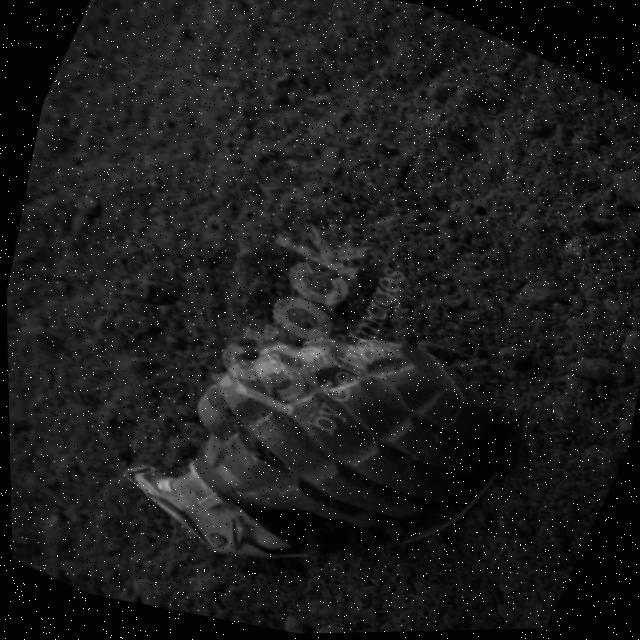grenade: (85, 241, 558, 639)
